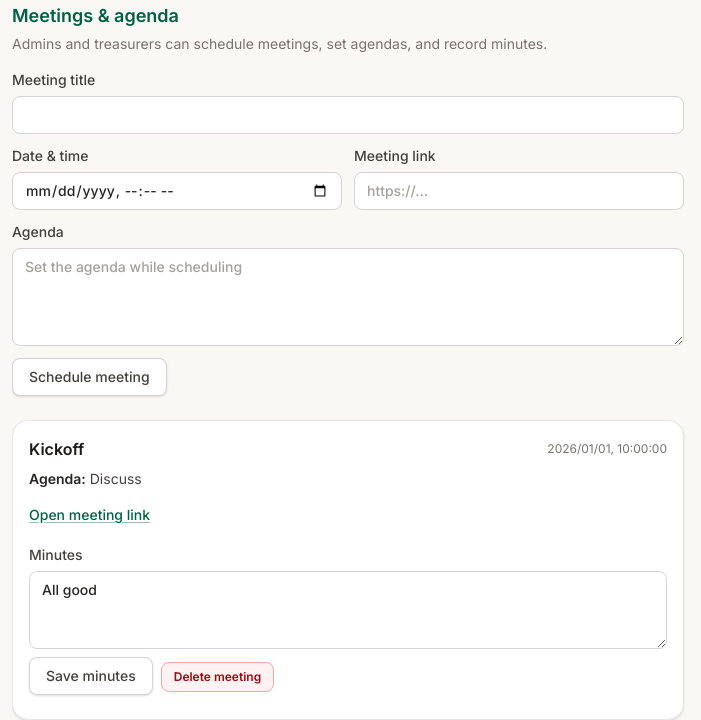
Test: AdminEditStokvel › Meetings › deletes meeting successfully
(page scrolled)
Click the button "Delete meeting" at (217, 677), box [161, 662, 274, 692]
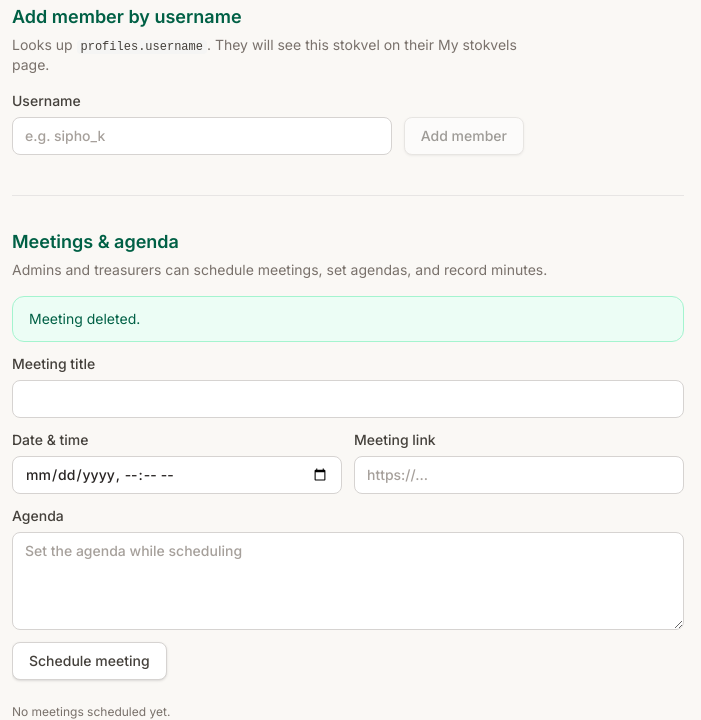
Expected: the text "Meeting deleted." is shown, [12, 296, 684, 342]
Expected: the text "Kickoff" is gone
